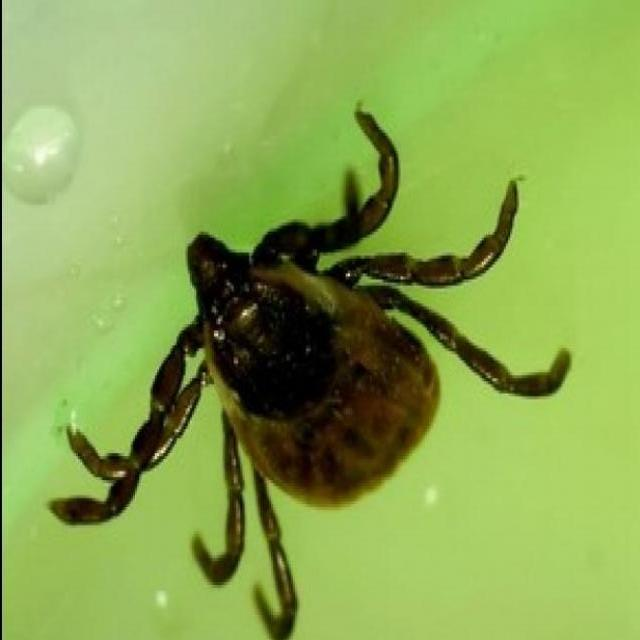Rhipicephalus Sanguineus-F: (43, 106, 565, 640)
